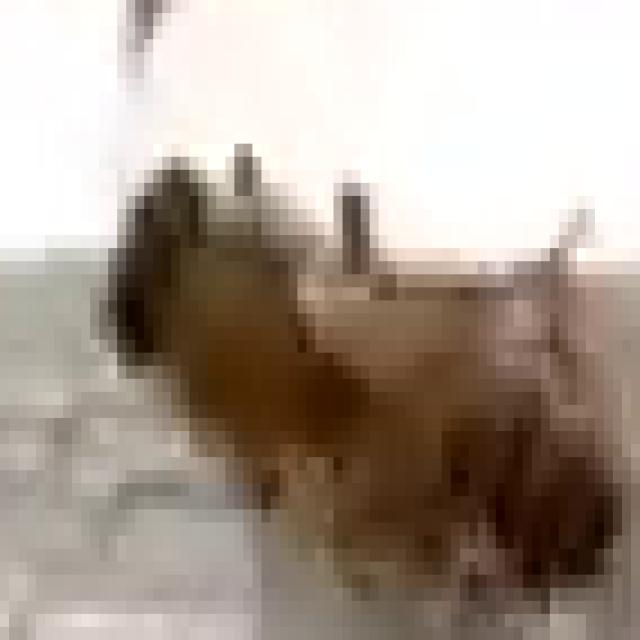honeybee: (98, 135, 618, 611)
